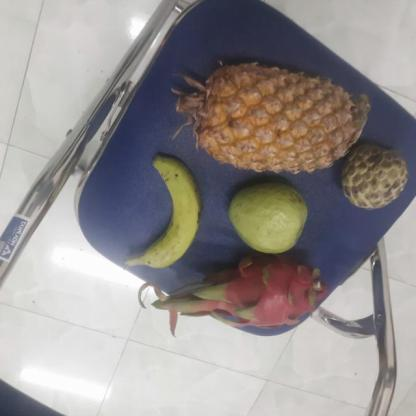annona: (334, 143, 408, 210)
banana: (131, 160, 201, 267)
guava: (226, 182, 310, 254)
pineapple: (180, 63, 361, 172)
pitaya: (204, 253, 322, 335)
